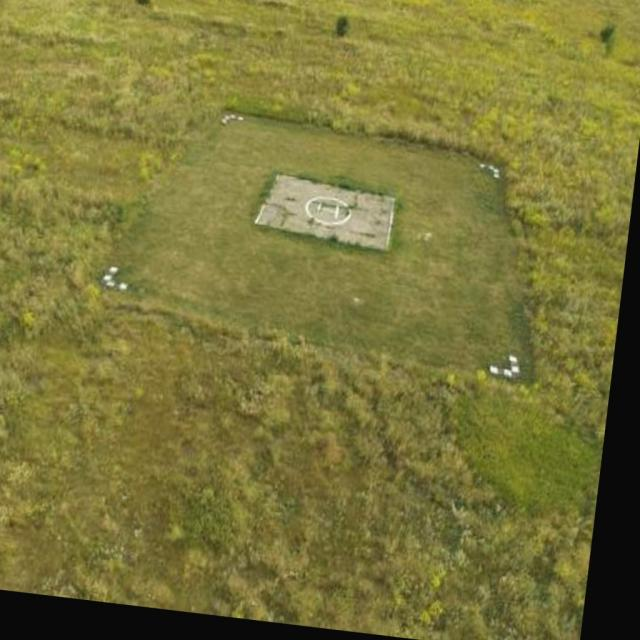helipad: (302, 193, 352, 226)
